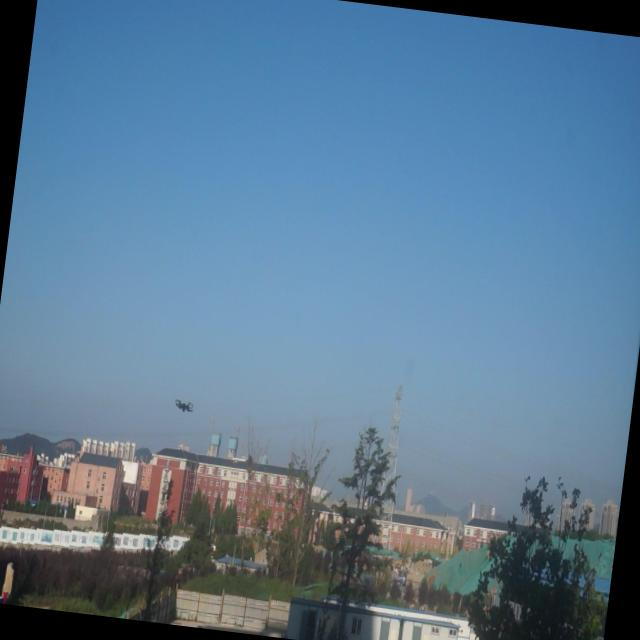drone: (170, 394, 198, 418)
